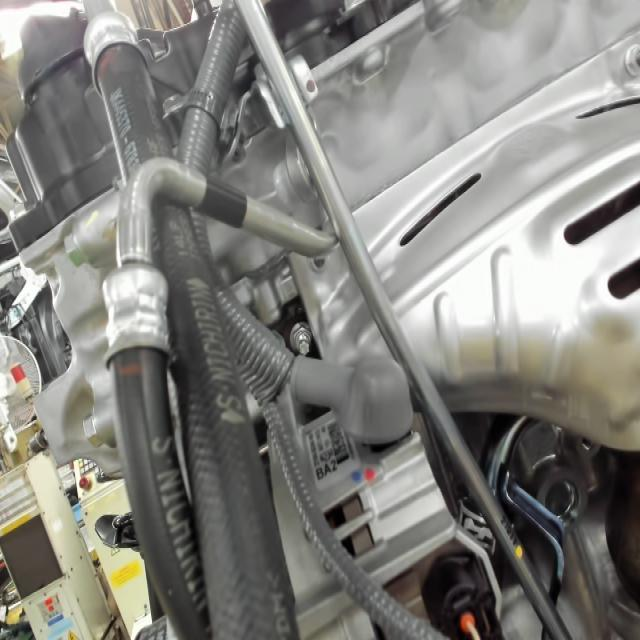Alternator-BA2: (311, 452, 345, 487)
Hose Discharge-HT: (191, 169, 251, 231)
